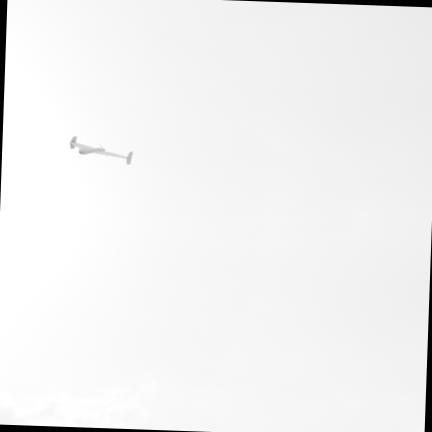Shahed: (70, 137, 132, 164)
